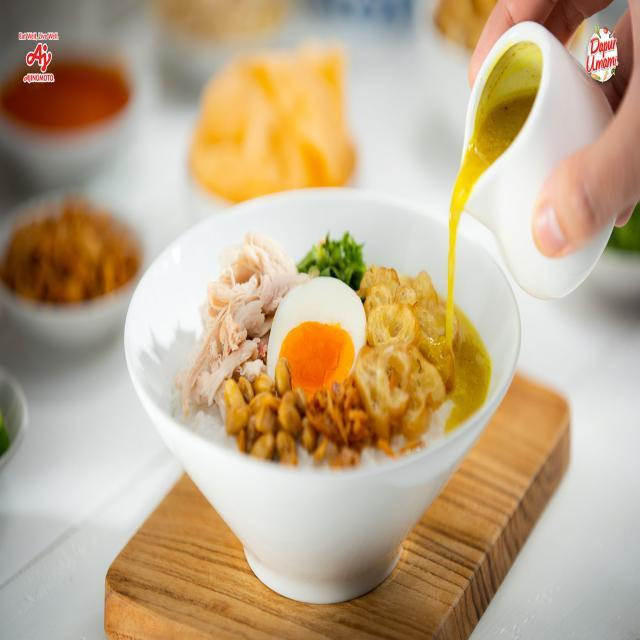bubur ayam: (172, 230, 490, 468)
mangkuk: (124, 187, 524, 605), (0, 187, 149, 354), (0, 33, 139, 195), (0, 367, 29, 477)
telur rebus: (264, 276, 362, 396)
